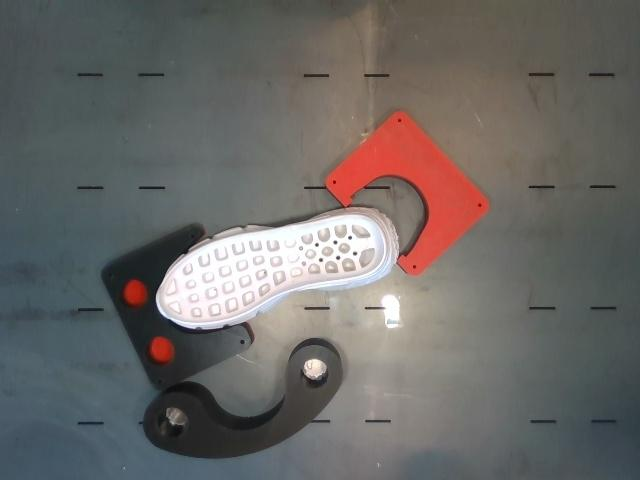shoes: (158, 216, 384, 323)
